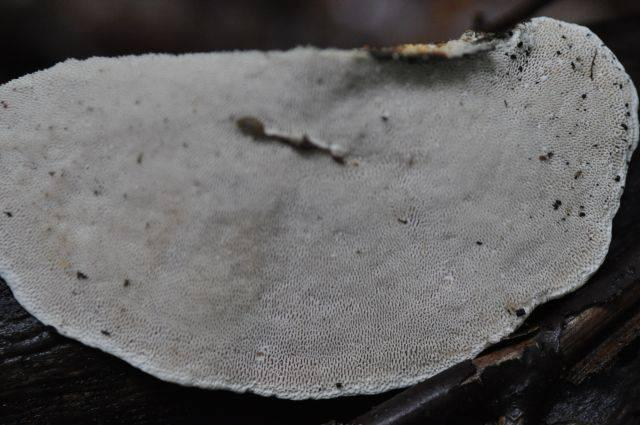Non-edible Mushroom: (0, 14, 639, 402)
